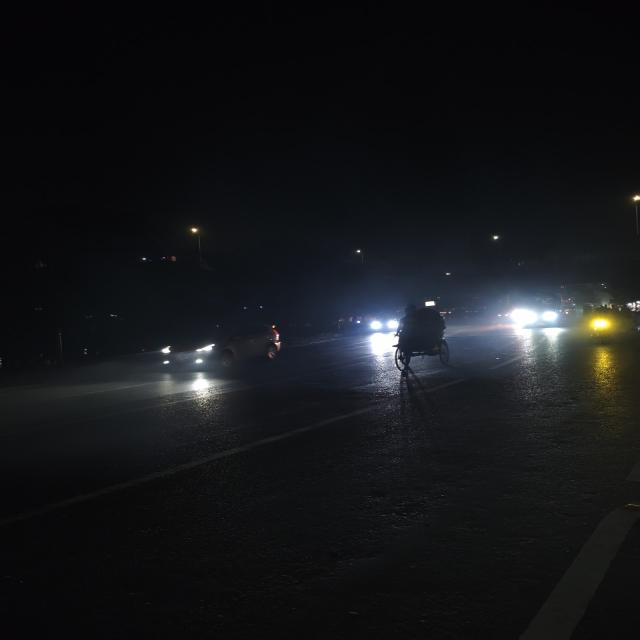bus: (509, 289, 569, 330)
car: (146, 322, 290, 378), (366, 314, 396, 334)
motorcycle: (585, 306, 615, 348)
rickshaw: (384, 302, 461, 379)
